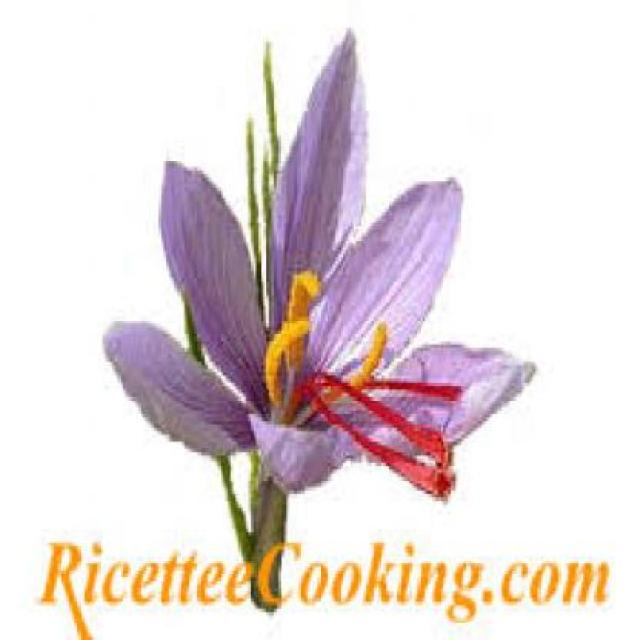saffron open: (105, 44, 535, 499)
